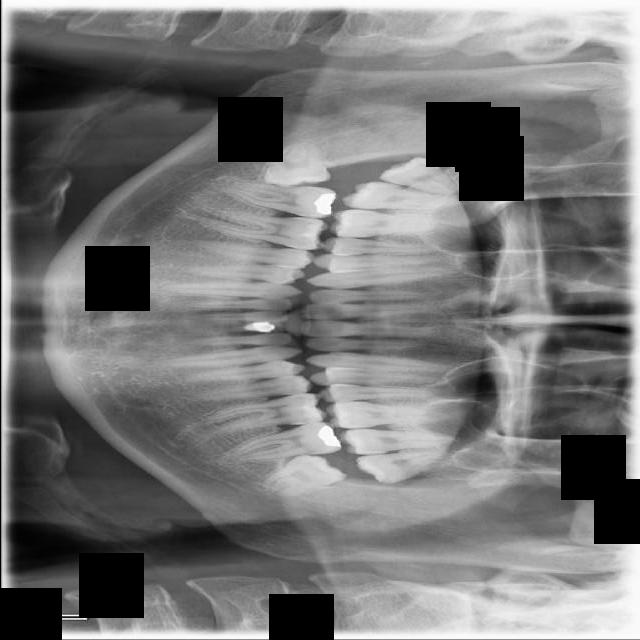3M ESPE Implant: (378, 148, 463, 199)
52: (314, 422, 345, 454), (310, 189, 336, 217), (243, 321, 275, 333)
73: (34, 590, 44, 598)
BioHorizons Implant: (337, 427, 452, 461)
BioLife Implant: (355, 449, 457, 486)
Biomet 3i Implant: (255, 442, 349, 505)
Blue Sky Bio Implant: (228, 420, 342, 462)
Caries: (341, 181, 447, 211)
Implant: (228, 181, 338, 220), (225, 186, 337, 219)
Keystone Dental Implant: (258, 137, 332, 190)
